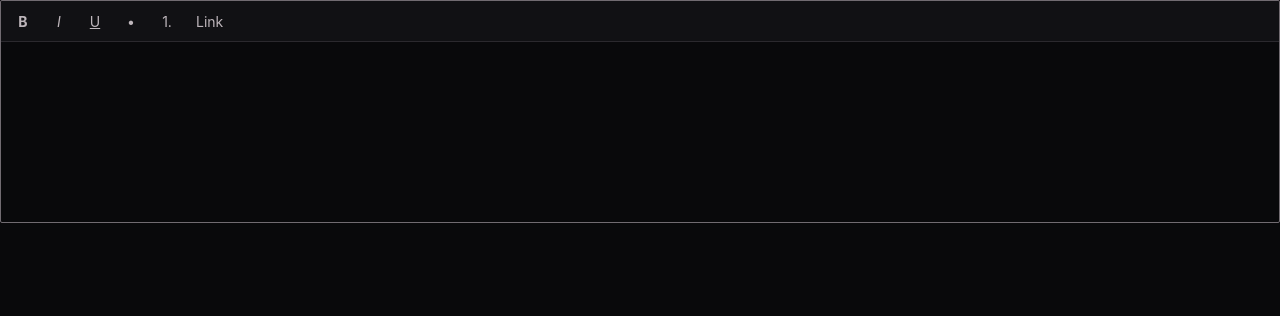
Test: applies toolbar formatting and refuses a link that is not a web or mail address
Press the mouse on the button named "Bold": (23, 21) [7,6,39,36]
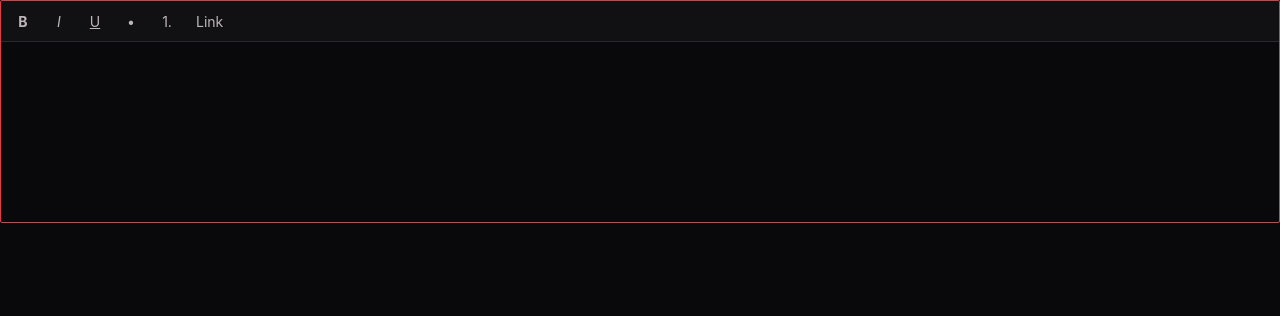
Press the mouse on the button named "Numbered List": (167, 21) [151,6,183,36]
Press the mouse on the button with aria-label "Insert Link": (210, 21) [187,6,232,36]
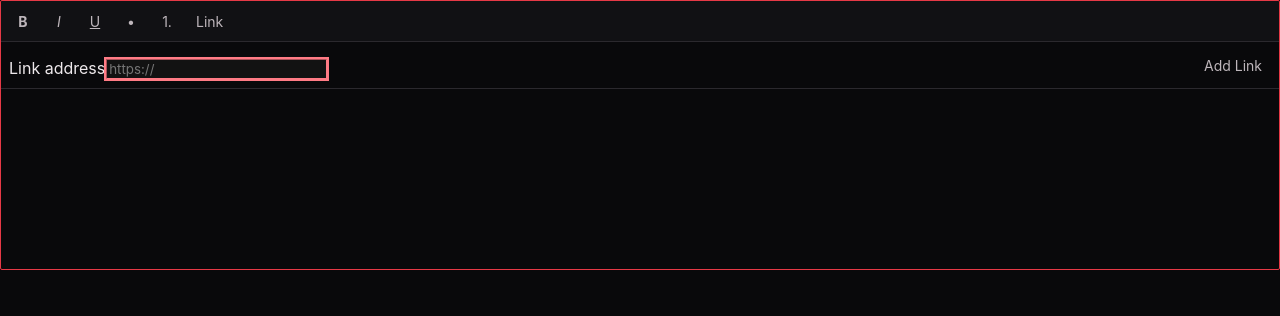
In the field labelled "Link address": (217, 69) [105,58,328,80], type "javascript:alert(1)"
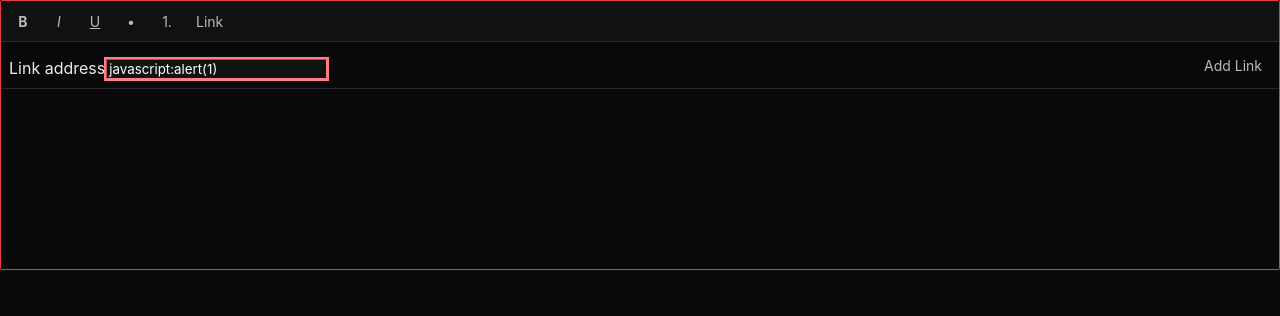
Press Enter in the field labelled "Link address", box [105,58,328,80]
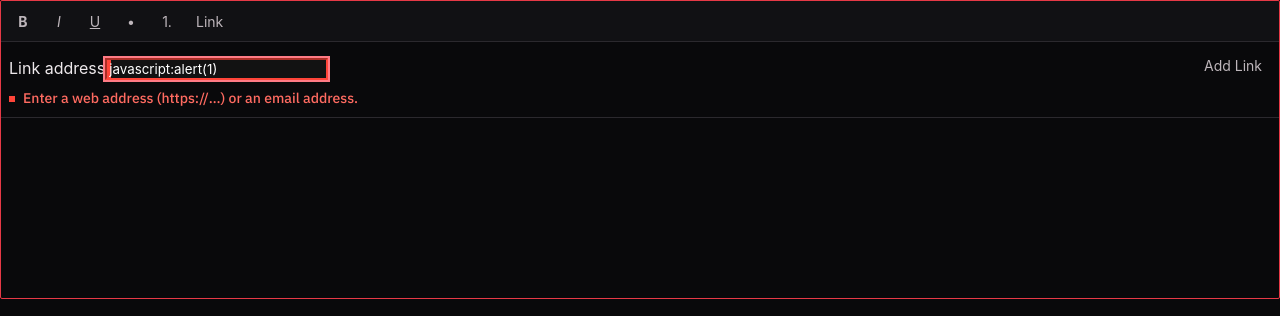
Now the message shows "Enter a web address", box [23,89,358,107]
Replace the text in the field labelled "Link address" with "example.test/kb": (217, 69) [105,58,328,80]
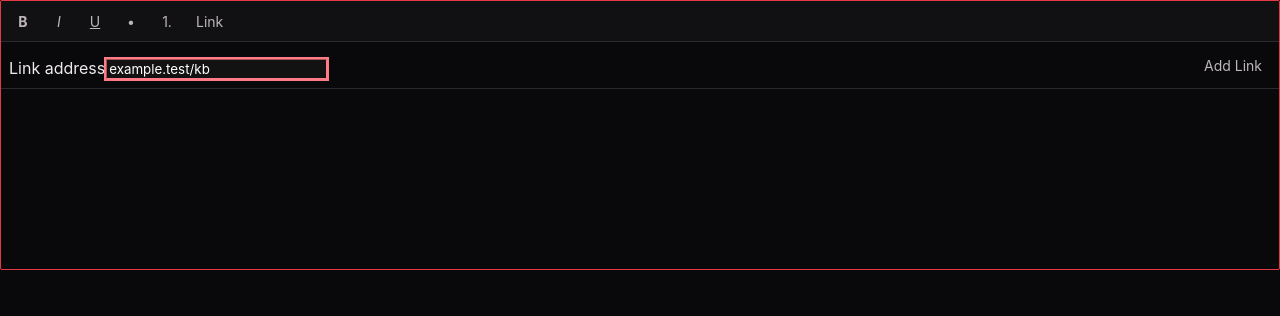
Click the button "Add Link": (1233, 65) [1195,50,1271,80]
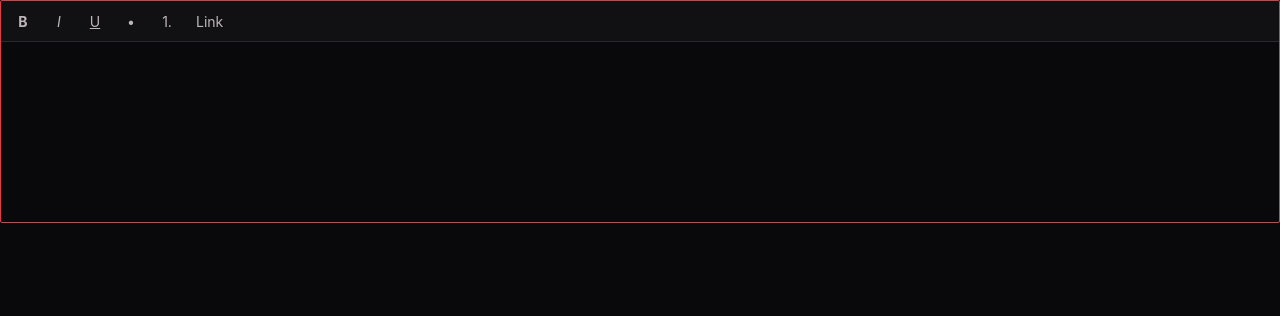
Now the text labelled "Link address" is gone
